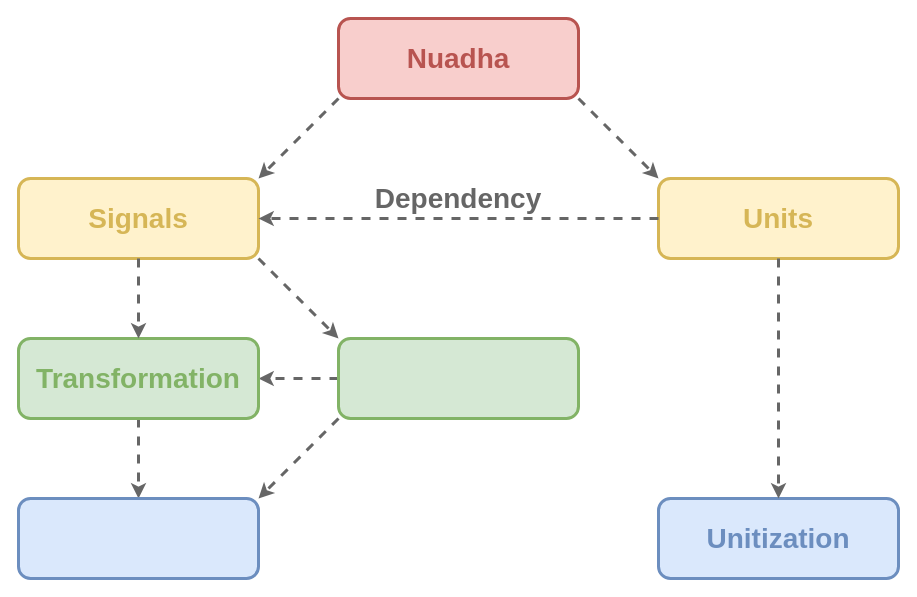
Some shapes in this 917 by 597 pixel diagram are drawn without their labels. The shapes that lost their labels are listed below. From the top down, each one's box as (x1, y1, x2, y2) in pixels, then its label:
(336, 336, 580, 420): Conduction
(16, 496, 260, 580): Signalization
